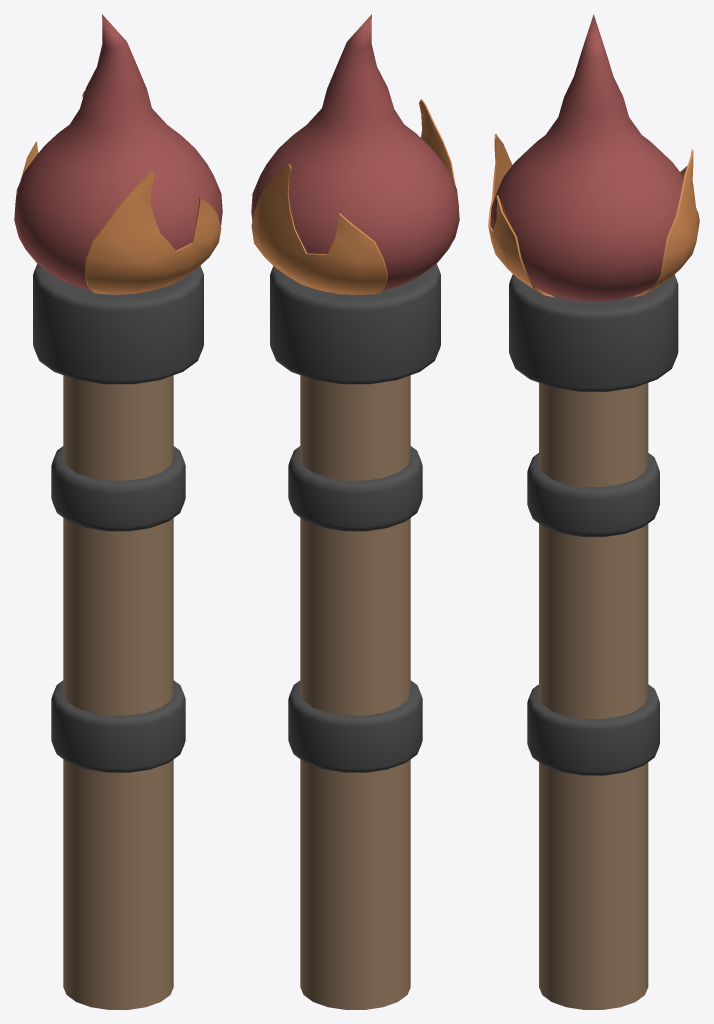
File: Torch.fbx
The picture shows the model from 3 angles, left to right: view 1: azimuth 30°, elevation 25°; view 2: azimuth 150°, elevation 25°; view 3: azimuth 270°, elevation 25°; orthographic projection.
Parts seen in each view (by area): view 1: Torch; view 2: Torch; view 3: Torch.
Part boxes in pixels (left/top/right/bottom): Torch: left=14, top=14, right=222, bottom=1009; Torch: left=251, top=14, right=459, bottom=1009; Torch: left=488, top=14, right=699, bottom=1009.
Bounding box in the file's own units: 24.47 × 127 × 25.3.
